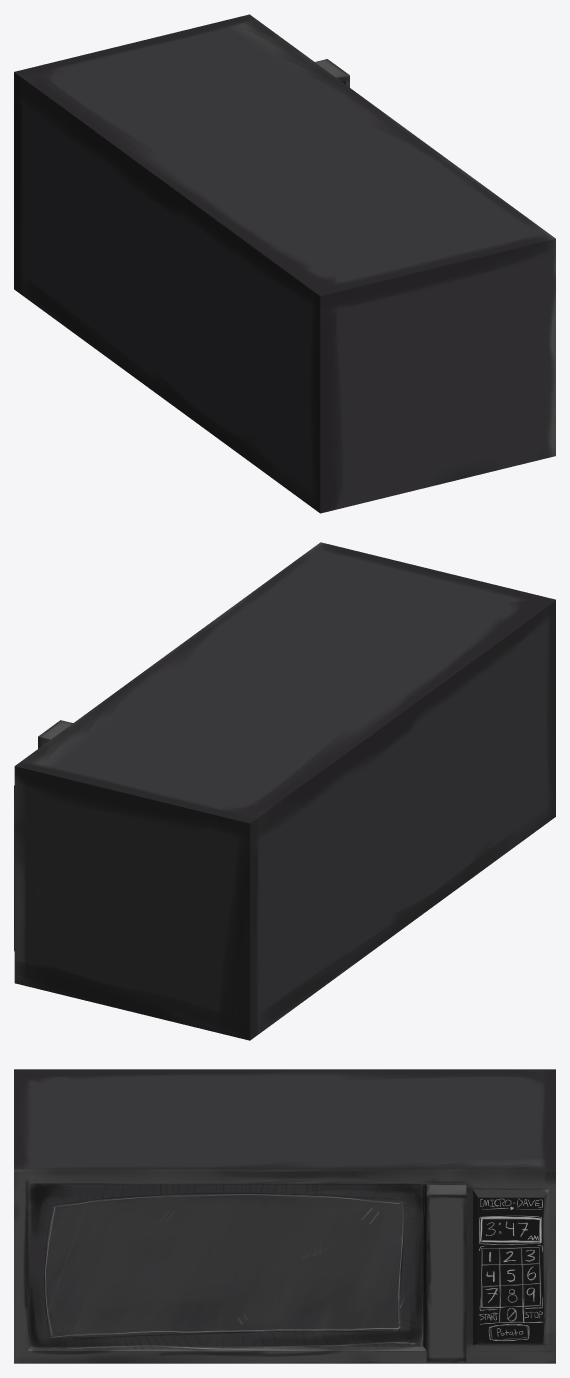
The model's file is Microwave.fbx.
The picture shows the model from 3 angles, top to bottom: view 1: azimuth 30°, elevation 25°; view 2: azimuth 150°, elevation 25°; view 3: azimuth 270°, elevation 25°; orthographic projection. The views are drawn at different scales.
Parts seen in each view (by area): view 1: BreakRoom.001; view 2: BreakRoom.001; view 3: BreakRoom.001.
Boxes of the visible parts, box(x1,y1,x2,y2) form: BreakRoom.001: box(14, 14, 555, 513); BreakRoom.001: box(14, 542, 555, 1040); BreakRoom.001: box(14, 1069, 555, 1363).
Size of the model in its own units: 95.66 by 75.6 by 193.
